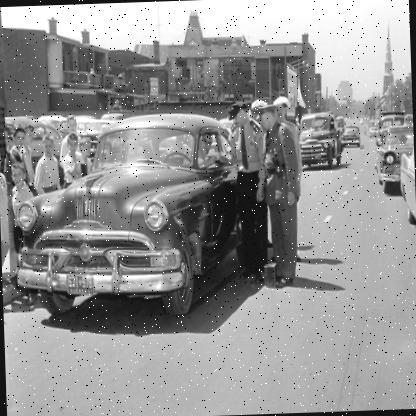Car: (5, 106, 366, 322), (369, 112, 415, 256), (360, 118, 364, 125)
